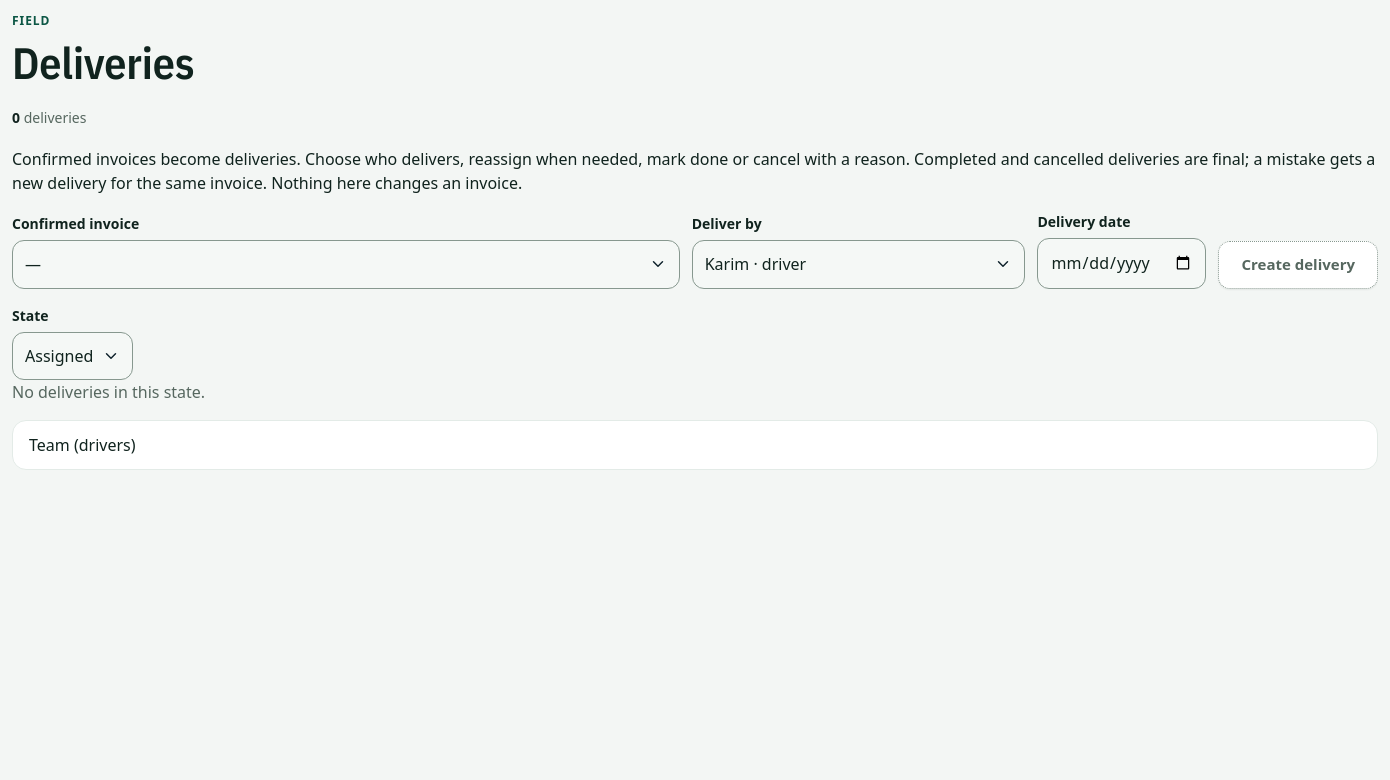
it: with drivers, the driver chosen last on this device starts selected in the create form (D-103)
Expected: the dropdown labelled "Deliver by" shows "Karim · driver", x1=692 y1=240 x2=1025 y2=289
Step 1. Select "2026-000001 · Corner Shop · 30.00 $" in the dropdown labelled "Confirmed invoice" → (346, 264), box x1=12 y1=240 x2=680 y2=289
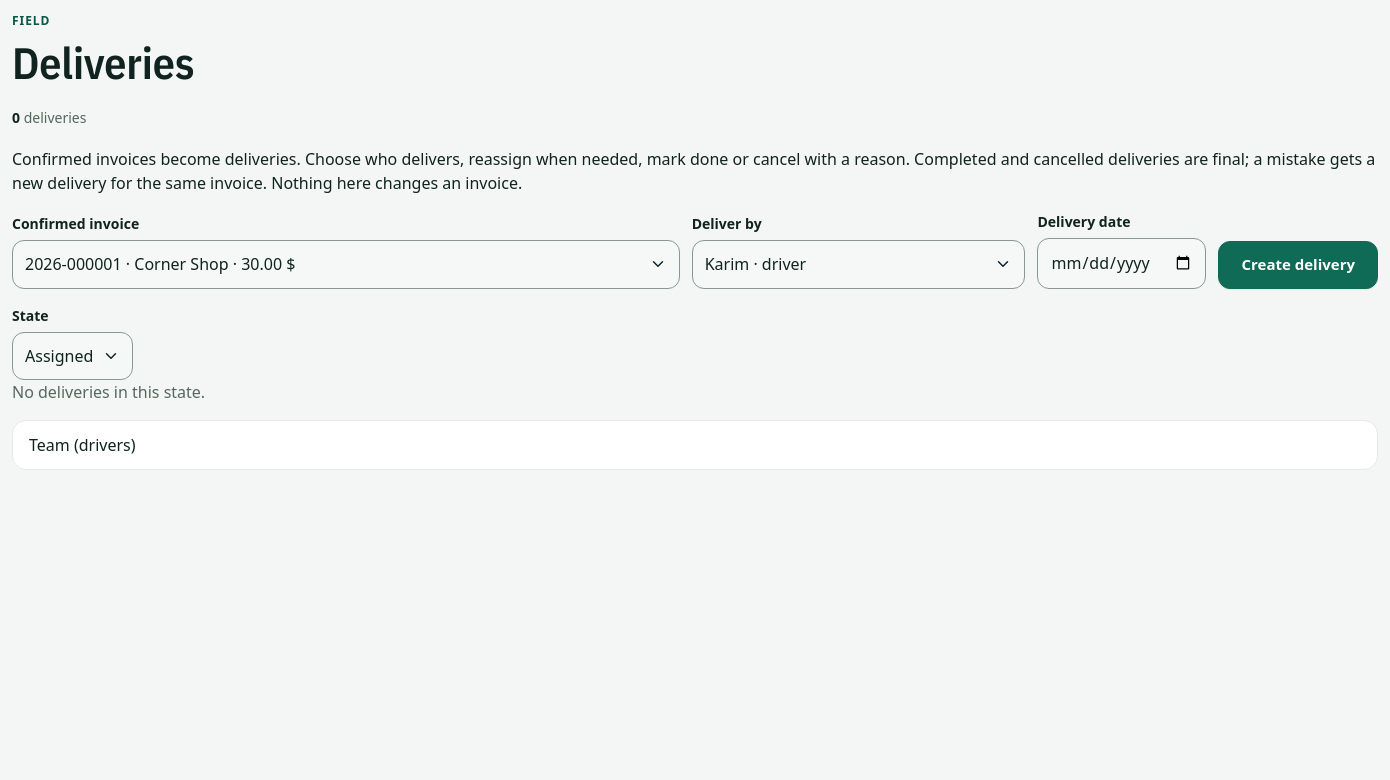
Step 2. Click the button "Create delivery" → (1298, 265), box x1=1218 y1=241 x2=1378 y2=289
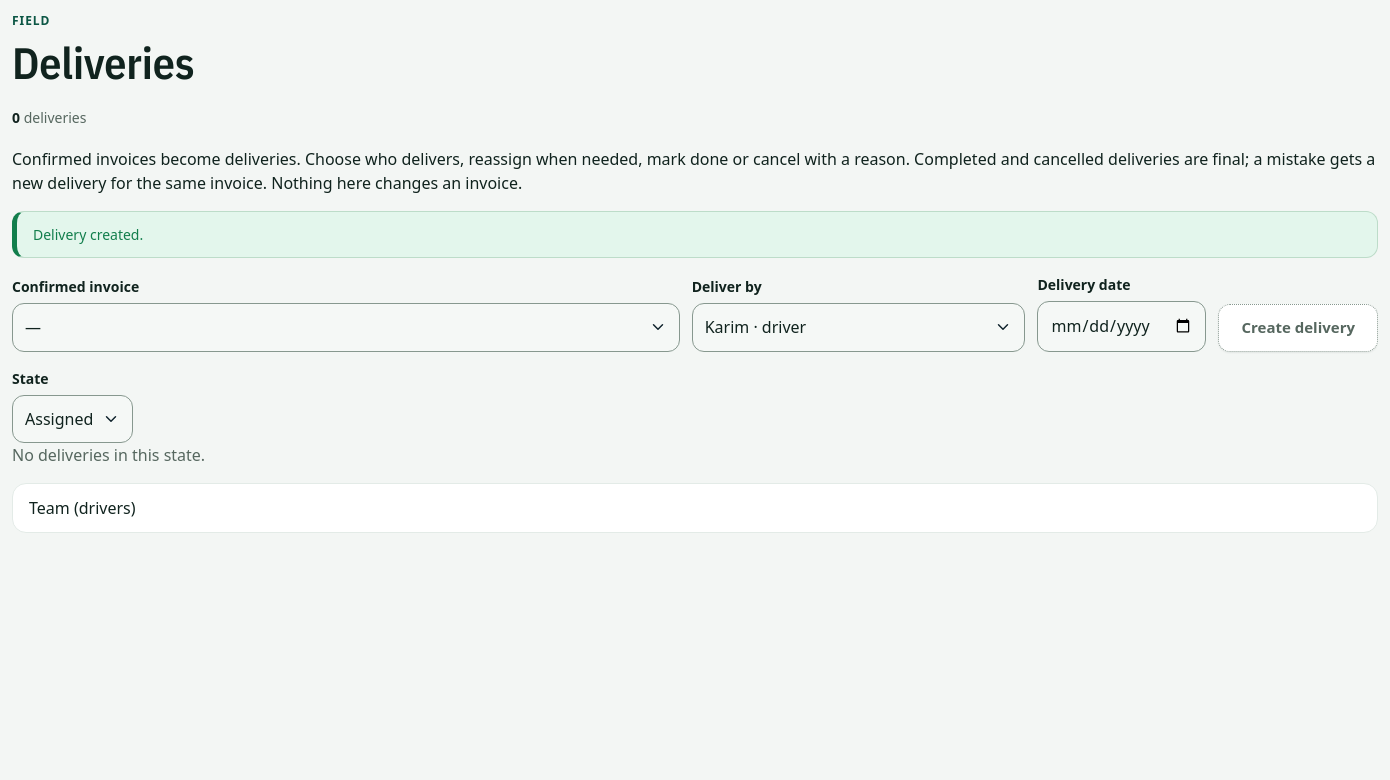
Now the text "Delivery created." is shown, box x1=12 y1=211 x2=1378 y2=258
